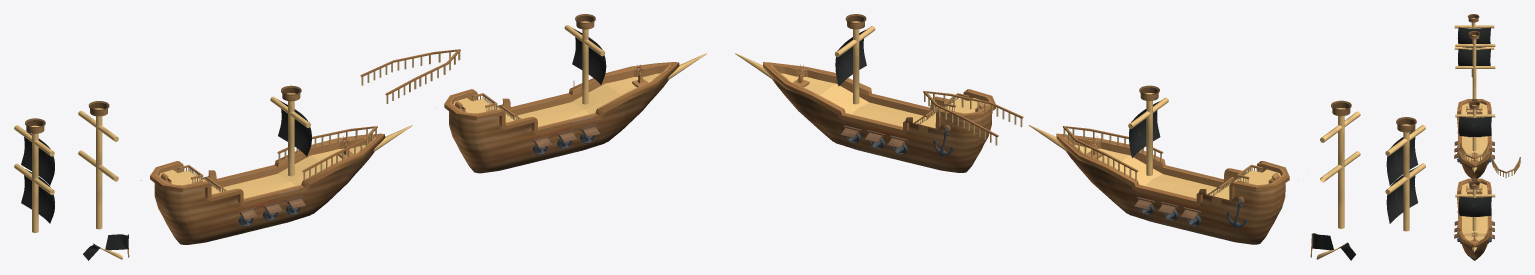
File: broken_pirate_ship.fbx
The picture shows the model from 3 angles, left to right: view 1: azimuth 30°, elevation 25°; view 2: azimuth 150°, elevation 25°; view 3: azimuth 270°, elevation 25°; orthographic projection. The views are drawn at different scales.
Visible parts, largest first — view 1: Boat, Boat.005, Boat.002, Boat.001, Boat.006; view 2: Boat, Boat.005, Boat.002, Boat.001, Boat.006; view 3: Boat.005, Boat, Boat.002, Boat.001, Boat.006.
Part boxes in pixels (box(x1,y1,x2,y2)): Boat: box(141, 85, 412, 244); Boat.005: box(436, 14, 706, 173); Boat.002: box(14, 118, 54, 232); Boat.001: box(78, 101, 118, 229); Boat.006: box(360, 49, 460, 103); Boat: box(1028, 85, 1298, 244); Boat.005: box(735, 14, 995, 172); Boat.002: box(1385, 117, 1425, 231); Boat.001: box(1320, 100, 1360, 228); Boat.006: box(923, 91, 1023, 145); Boat.005: box(1454, 178, 1495, 260); Boat: box(1454, 99, 1495, 178); Boat.002: box(1454, 14, 1494, 77); Boat.001: box(1455, 31, 1495, 98); Boat.006: box(1491, 157, 1520, 178).
Bounding box in the file's own units: 5298 × 1205 × 809.
